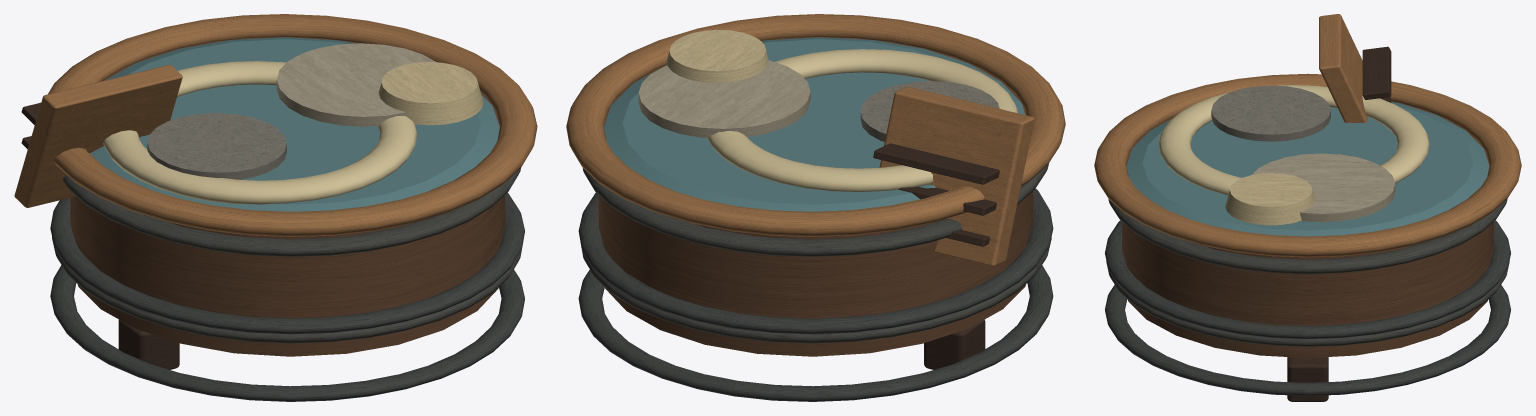
File: washtub.glb
3 renders of one model, left to right at view 1: azimuth 30°, elevation 25°; view 2: azimuth 150°, elevation 25°; view 3: azimuth 270°, elevation 25°, orthographic. The views are drawn at different scales.
Parts seen in each view (by area): view 1: washtub; view 2: washtub; view 3: washtub.
Boxes of the visible parts, left/top/right/bottom form: washtub: left=14, top=14, right=537, bottom=401; washtub: left=566, top=14, right=1065, bottom=401; washtub: left=1094, top=14, right=1521, bottom=401.
Size of the model in its own units: 1 by 0.6 by 1.
Materials: 1 (1 with a texture image).
